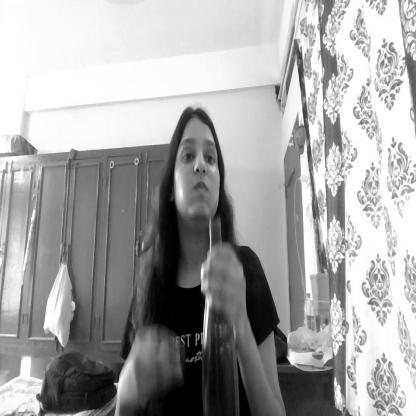Distracted: (170, 107, 228, 235)
